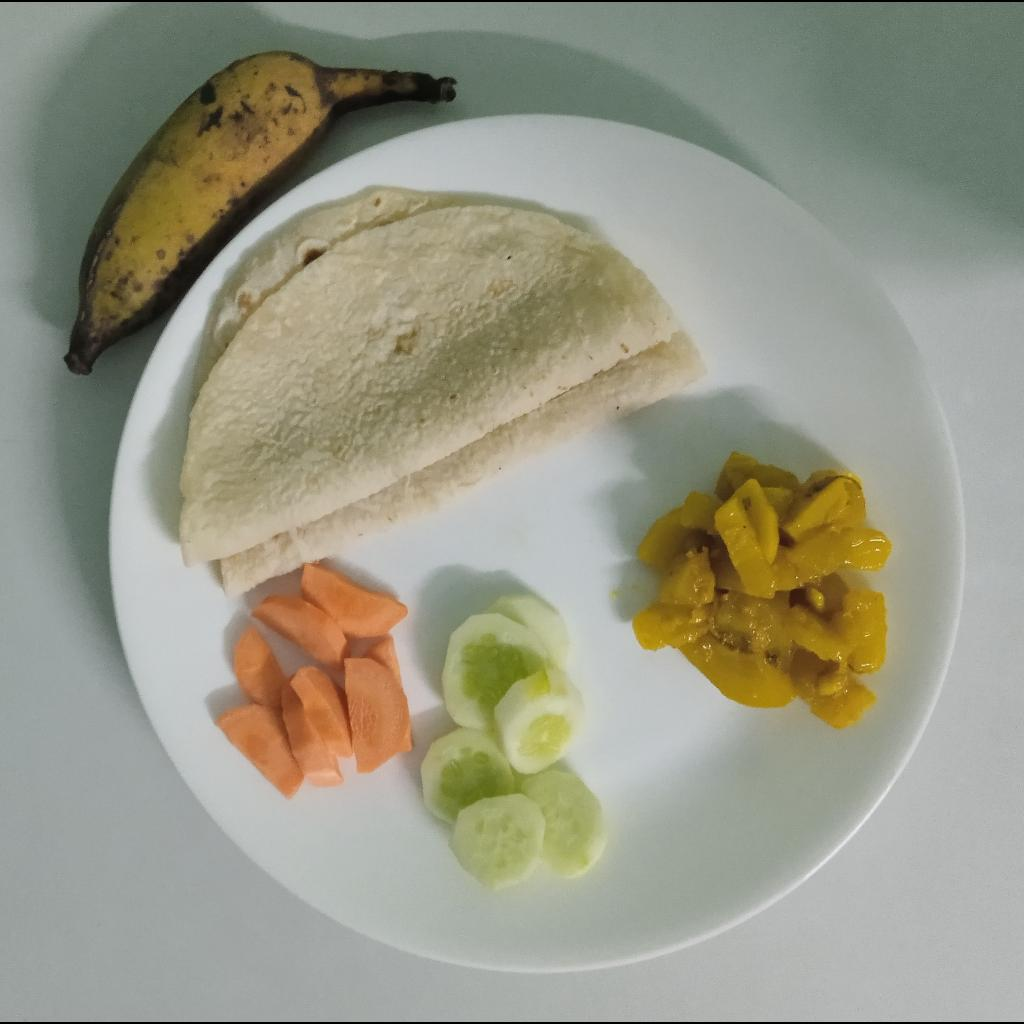banana: (60, 48, 463, 382)
carrot: (210, 565, 418, 799)
cucumber: (414, 592, 612, 888)
lau: (630, 448, 897, 731)
ruti: (172, 181, 708, 599)
